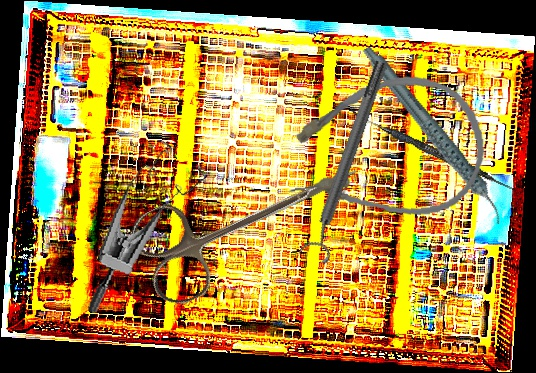Cannula: (277, 67, 491, 231)
Fixation Ring: (295, 56, 400, 266)
Handpiece: (359, 25, 506, 247)
Iris Scissors: (123, 121, 376, 314)
Spatula Surgical: (346, 109, 519, 193)
Speculum: (86, 132, 211, 330)
